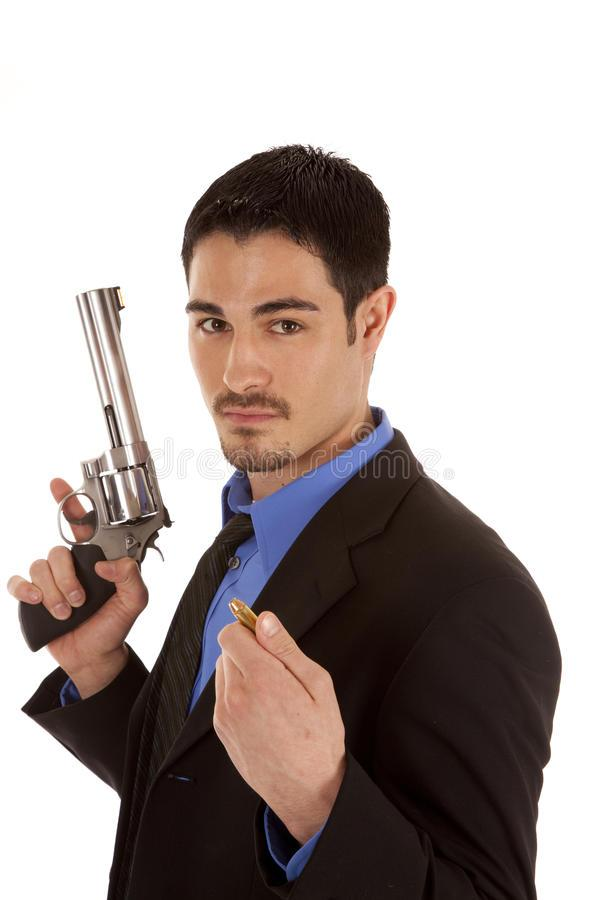criminal: (5, 138, 564, 900)
weapon: (13, 276, 180, 665)
